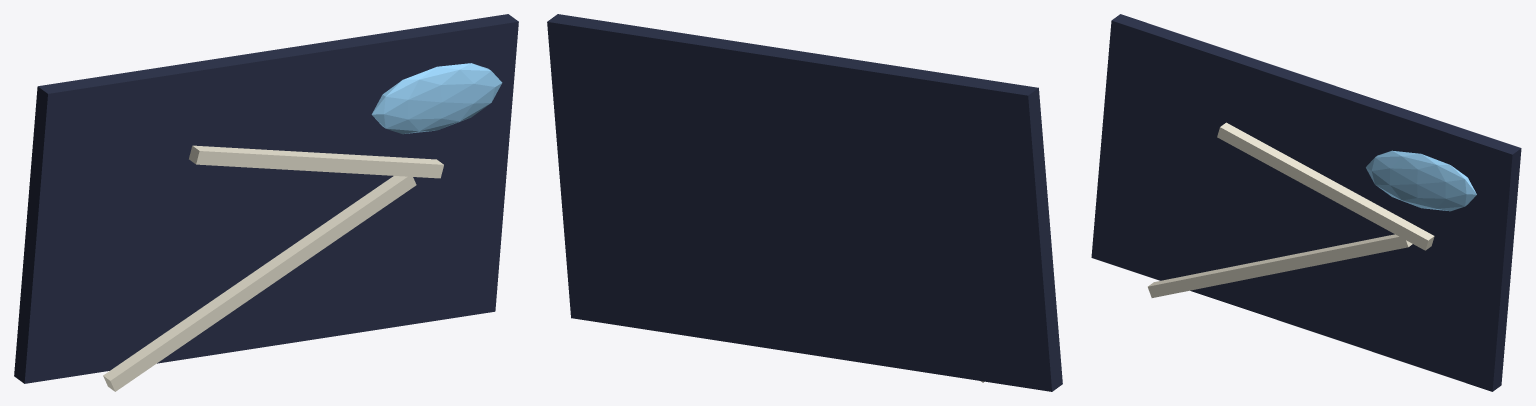
Rendered from 05_weathering_wear_overlay_5.glb.
3 views of the same model, side by side, from view 1: azimuth 30°, elevation 25°; view 2: azimuth 150°, elevation 25°; view 3: azimuth 330°, elevation 25° (orthographic). The views are drawn at different scales.
Visible parts, largest first — view 1: wear_plate, scratch_a, rust_or_moss_spot, scratch_b; view 2: wear_plate; view 3: wear_plate, rust_or_moss_spot, scratch_b, scratch_a.
Boxes of the visible parts, <box> form: wear_plate: <box>14,14,518,383</box>; scratch_a: <box>103,176,416,391</box>; rust_or_moss_spot: <box>371,63,502,134</box>; scratch_b: <box>189,145,443,178</box>; wear_plate: <box>547,14,1062,391</box>; wear_plate: <box>1091,14,1521,391</box>; rust_or_moss_spot: <box>1366,150,1476,211</box>; scratch_b: <box>1217,122,1434,250</box>; scratch_a: <box>1148,234,1412,297</box>.
Bounding box in the file's own units: 1.36 × 0.8592 × 0.134.
